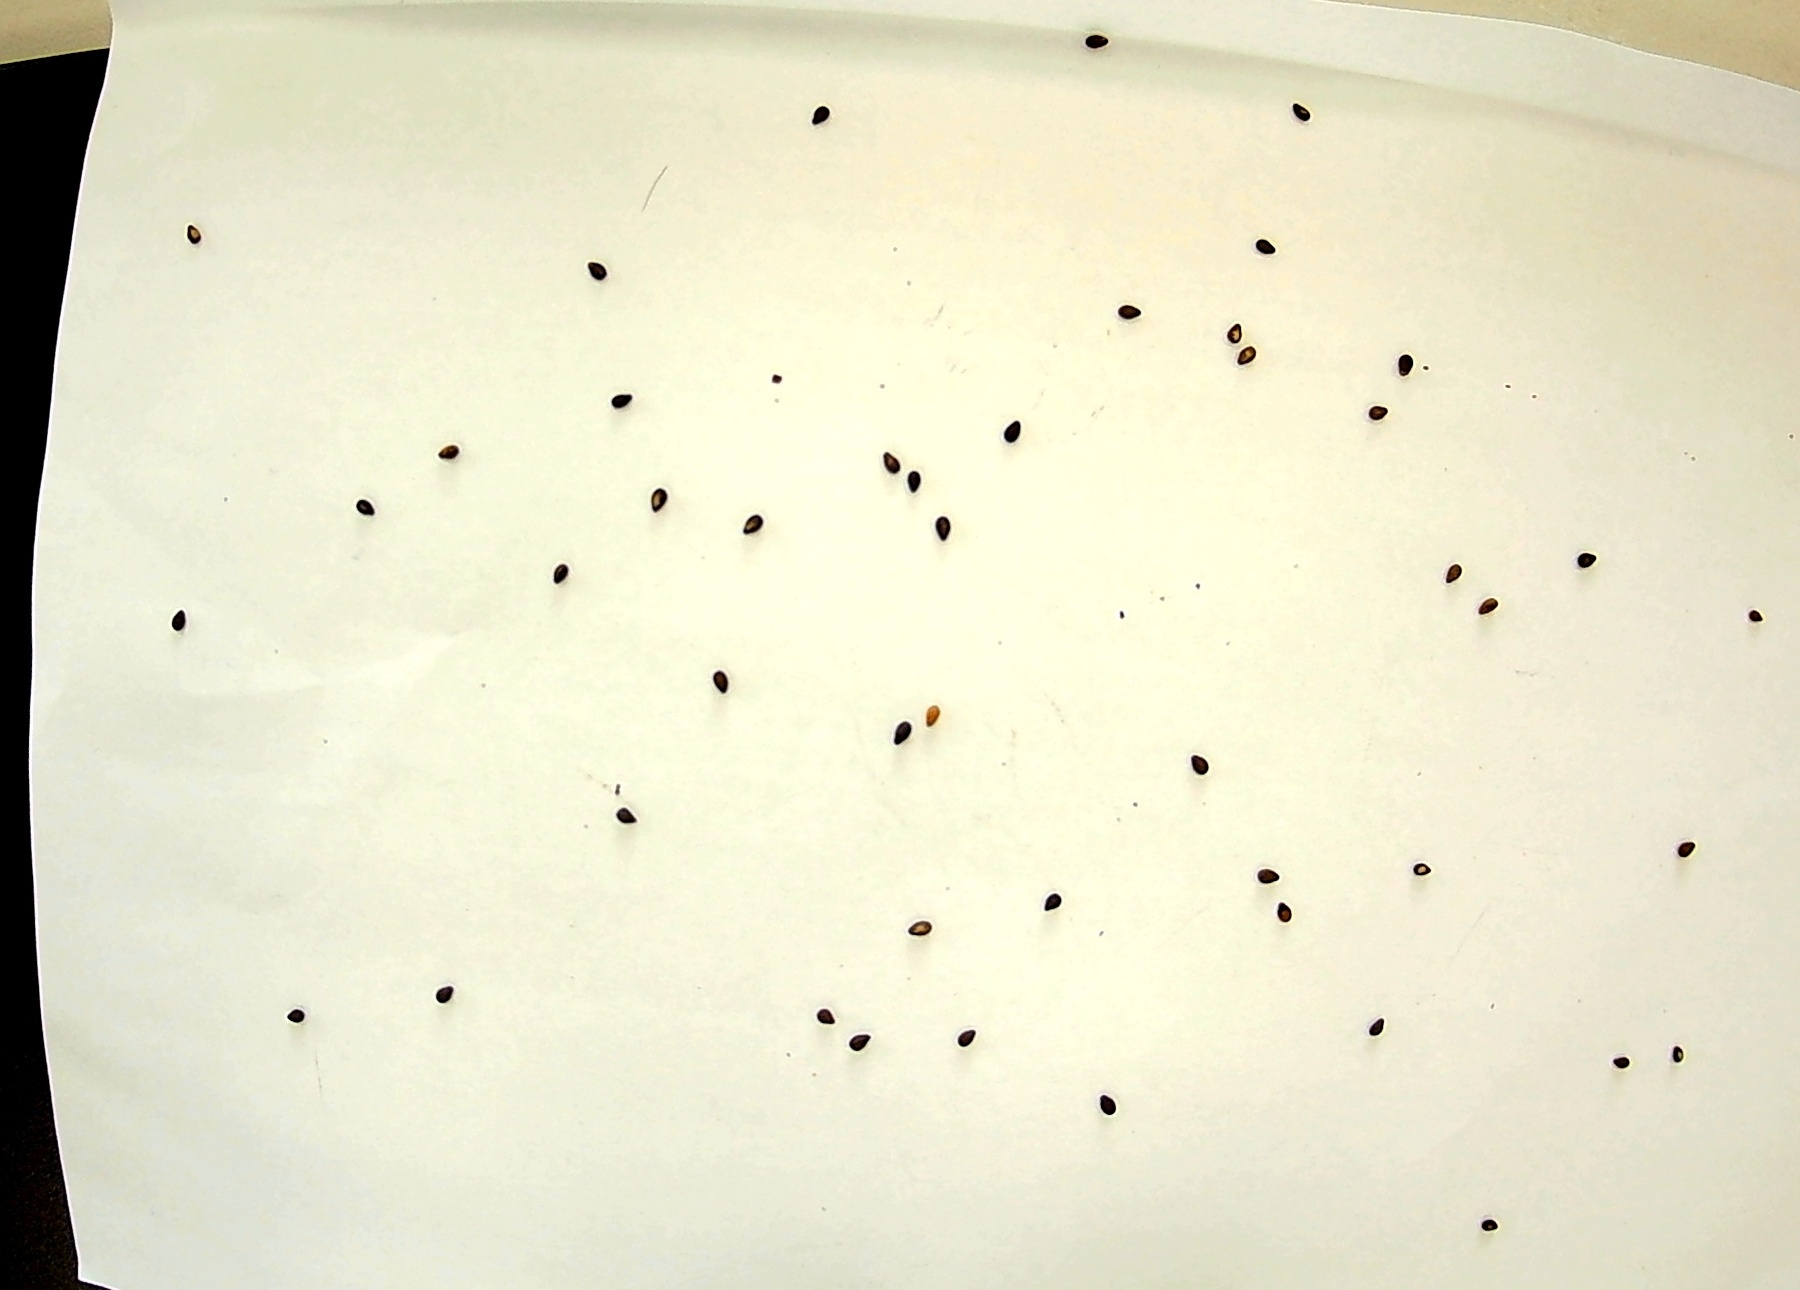sesami: (931, 511, 966, 550), (1028, 881, 1063, 920), (906, 909, 940, 948), (543, 556, 578, 595), (160, 607, 195, 646), (273, 1005, 308, 1044), (428, 977, 463, 1016), (920, 695, 953, 734), (883, 708, 917, 747), (1088, 1083, 1122, 1122), (947, 1023, 981, 1062), (840, 1026, 873, 1065), (805, 995, 839, 1035), (607, 799, 640, 838), (702, 665, 735, 704), (1409, 847, 1439, 884), (1268, 900, 1298, 937), (1187, 746, 1215, 783), (1366, 396, 1394, 434), (1231, 345, 1259, 383), (1221, 318, 1249, 356), (1002, 412, 1030, 450), (606, 381, 633, 417), (172, 211, 200, 247), (433, 429, 460, 465), (1289, 92, 1317, 128), (1386, 349, 1413, 385), (1365, 1007, 1393, 1043), (1256, 853, 1284, 889), (1437, 556, 1465, 592), (1478, 586, 1506, 623), (1112, 295, 1140, 331), (899, 464, 927, 500), (872, 443, 900, 479), (583, 251, 610, 288), (352, 490, 378, 526), (805, 101, 832, 137), (1250, 226, 1277, 262), (1566, 543, 1592, 579), (1741, 600, 1768, 637), (1659, 1044, 1686, 1081), (1606, 1046, 1633, 1082), (1473, 1210, 1500, 1247), (741, 510, 774, 537), (649, 482, 675, 517), (1086, 27, 1112, 61), (1667, 831, 1694, 866)
